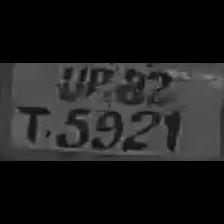2: (122, 105, 158, 150), (142, 66, 176, 106)
5: (55, 103, 91, 149)
8: (111, 65, 146, 105)
9: (92, 105, 122, 150)
J: (53, 63, 87, 99)
P: (82, 63, 112, 99)
T: (12, 103, 52, 144)
U: (158, 108, 184, 153)
